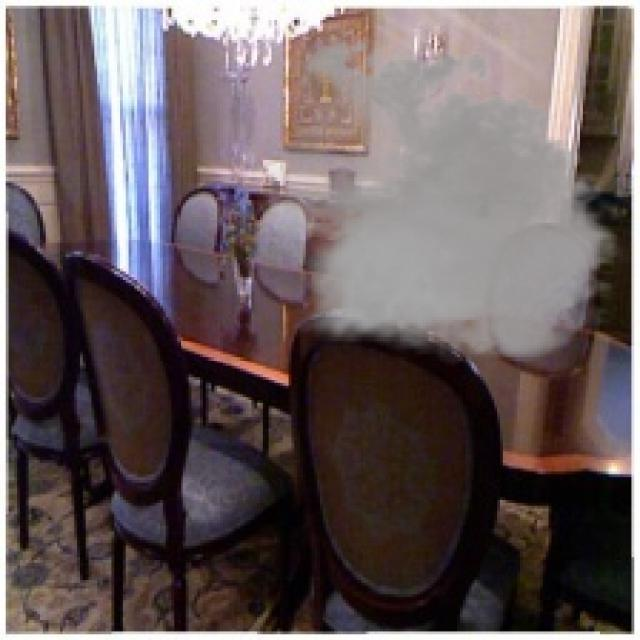Smoke: (243, 29, 632, 372)
